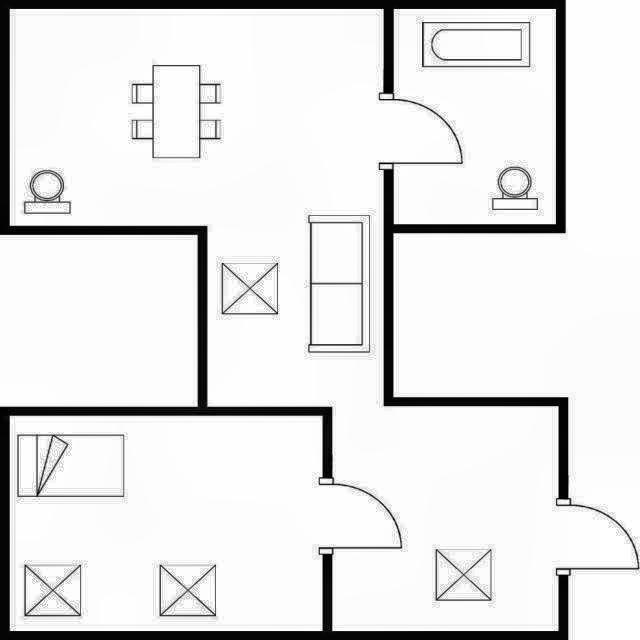room: (10, 416, 323, 631), (394, 9, 556, 224)
